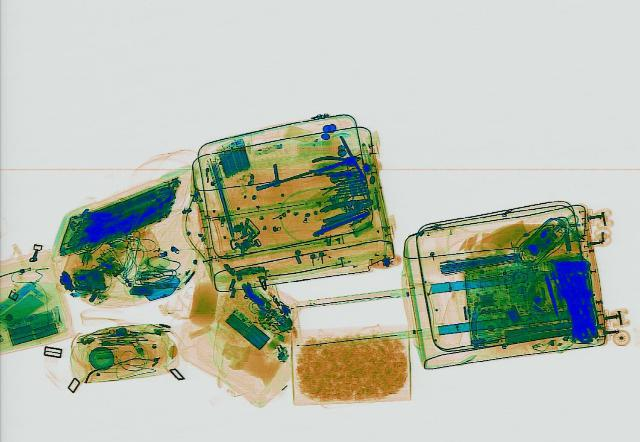Pliers: (312, 193, 378, 223), (305, 149, 361, 171)
